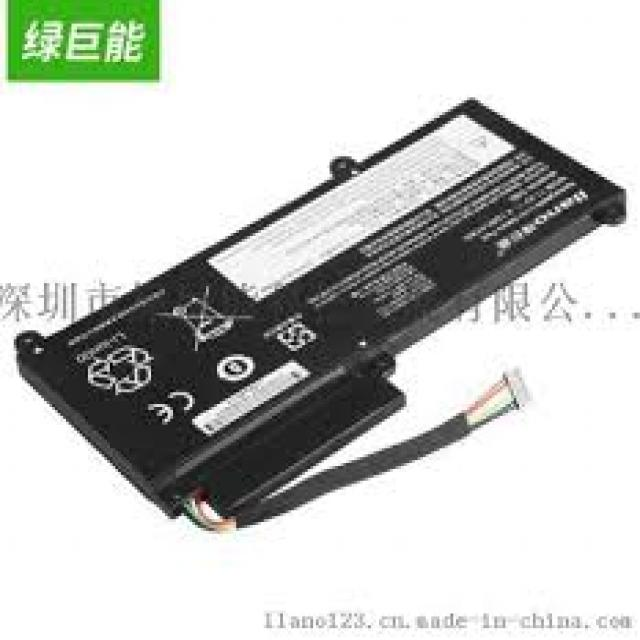non-organic waste: (6, 96, 637, 540)
